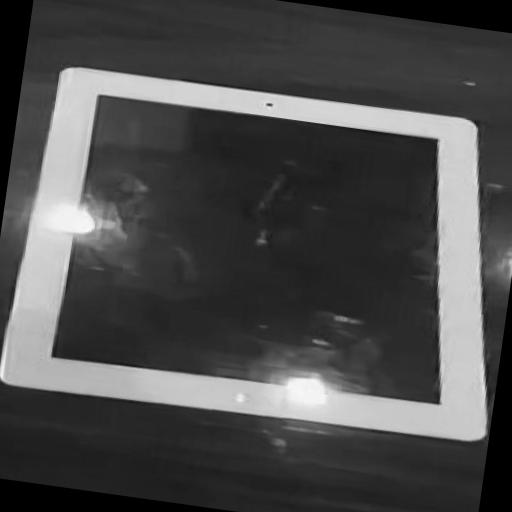phone: (0, 68, 486, 439)
